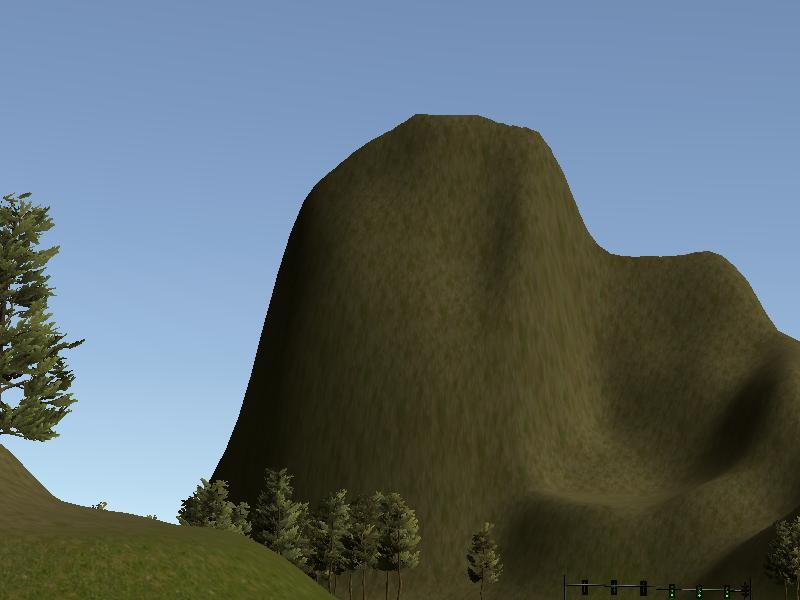Green: (693, 581, 705, 600), (667, 581, 676, 599), (722, 583, 730, 600)
